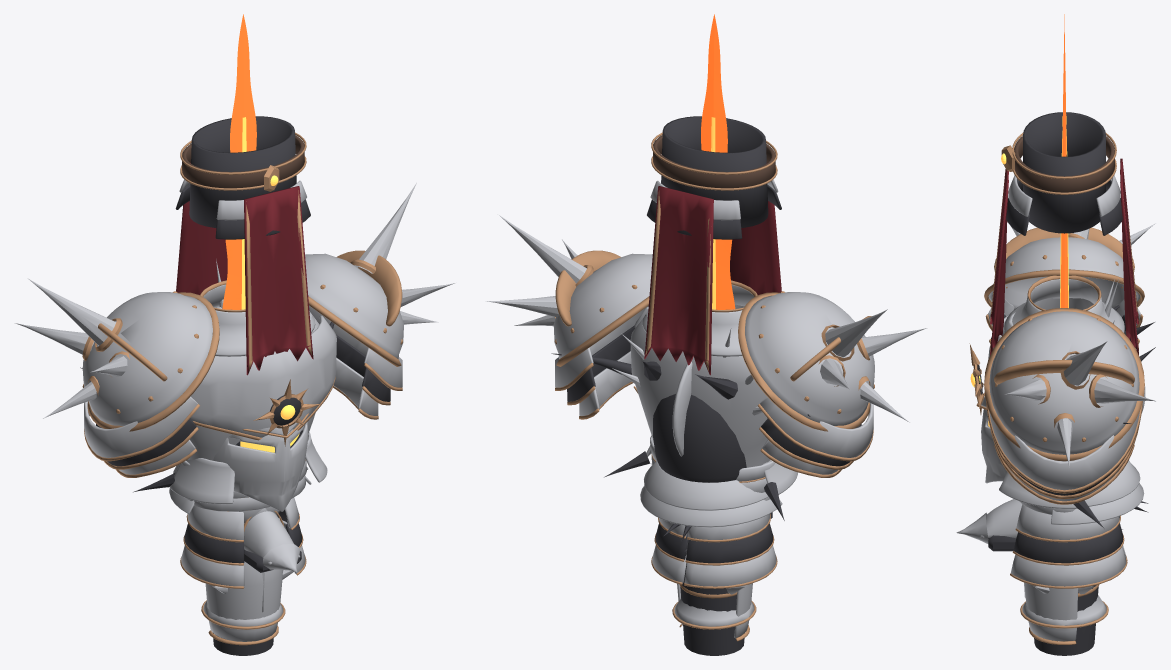
3 renders of one model, left to right at view 1: azimuth 30°, elevation 25°; view 2: azimuth 150°, elevation 25°; view 3: azimuth 270°, elevation 25°, orthographic.
Parts seen in each view (by area): view 1: chest, body, head, legL, sword, legR, footL, footR, shinL, shinR; view 2: chest, body, head, legL, legR, sword, shinL, shinR; view 3: chest, body, legR, head, legL, footL, shinL, sword.
Part boxes in pixels (<box>): chest: <box>15,183,455,511</box>; body: <box>175,116,313,375</box>; head: <box>80,259,334,513</box>; legL: <box>180,505,283,654</box>; sword: <box>222,14,256,309</box>; legR: <box>205,497,306,655</box>; footL: <box>244,510,301,572</box>; footR: <box>244,511,300,572</box>; shinL: <box>201,506,285,629</box>; shinR: <box>203,508,264,626</box>; chest: <box>485,215,926,500</box>; body: <box>644,116,781,375</box>; head: <box>551,308,810,527</box>; legL: <box>677,514,777,654</box>; legR: <box>651,517,750,655</box>; sword: <box>633,14,735,393</box>; shinL: <box>672,540,756,629</box>; shinR: <box>693,601,754,626</box>; chest: <box>969,155,1155,514</box>; body: <box>990,112,1138,355</box>; legR: <box>1010,504,1127,655</box>; head: <box>976,279,1145,528</box>; legL: <box>1024,515,1127,655</box>; footL: <box>956,499,1122,551</box>; shinL: <box>1020,583,1108,628</box>; sword: <box>1060,14,1068,307</box>.
Bounding box in the file's own units: 1.23 × 1.87 × 0.5402.
